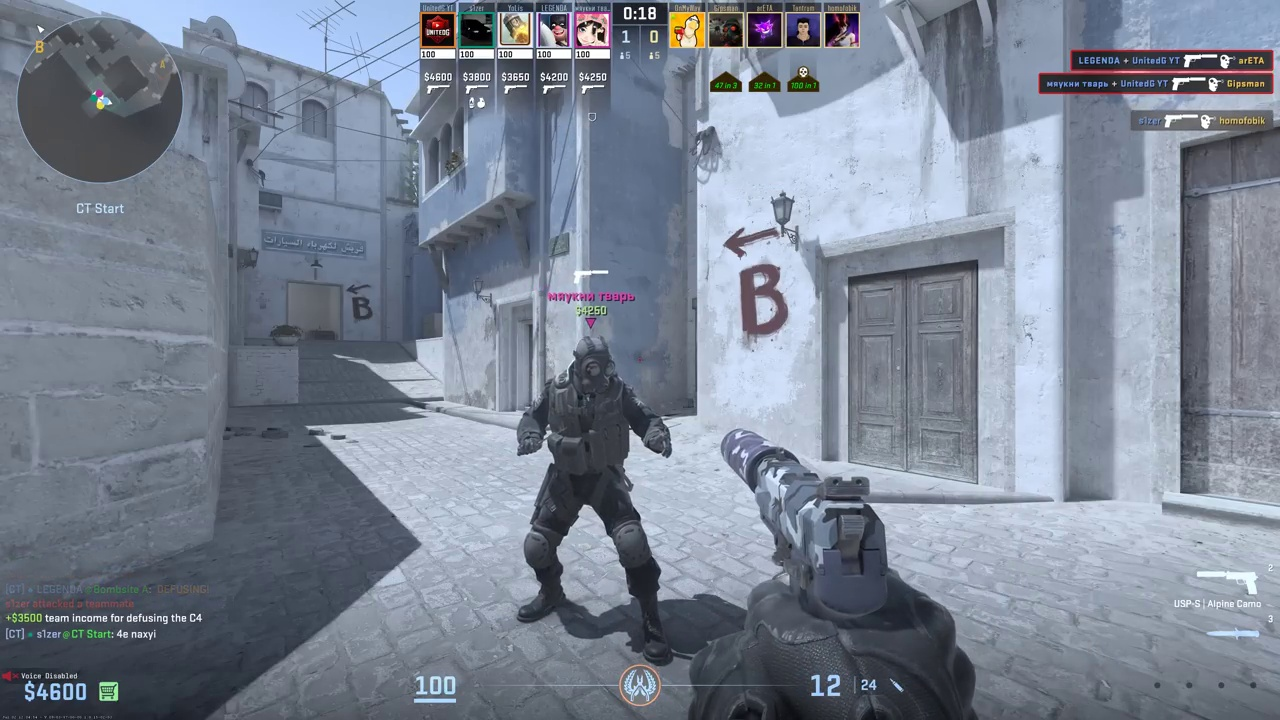CT: (517, 337, 660, 658)
